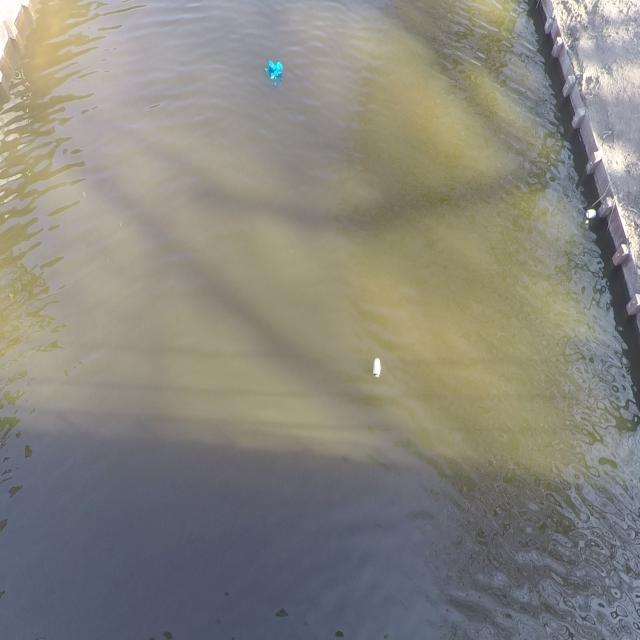Non plastique: (370, 350, 386, 387), (582, 206, 597, 224)
Sac plastique: (259, 52, 287, 94)
